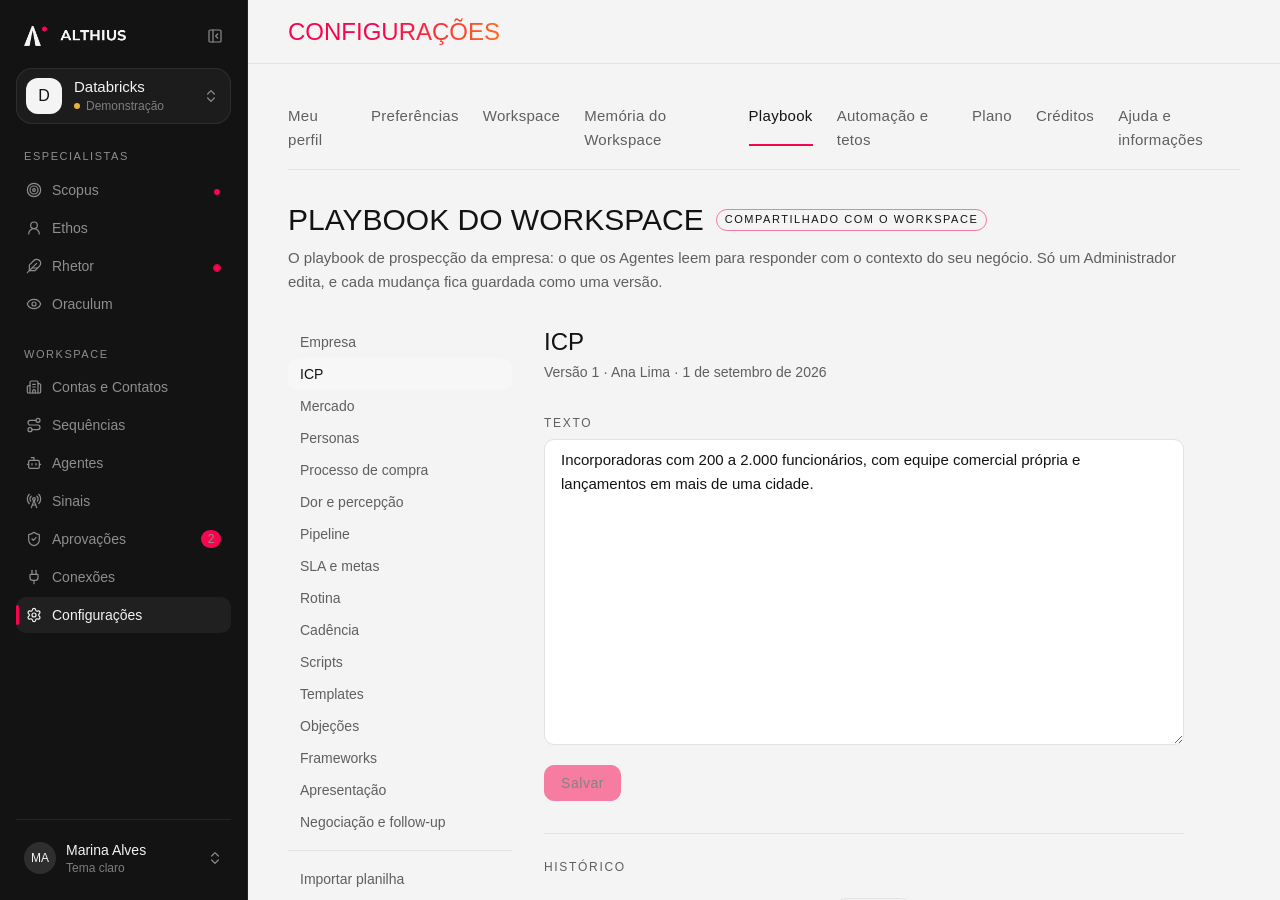
Test: Playbook do Workspace: edição pelo Administrador › edita o texto e grava uma versão nova, que entra no histórico
Expected: the button "Salvar" is disabled, 544,765 -> 621,801
Replace the text in the text box labelled "Texto" with "Incorporadoras de São Paulo.". click: (864, 592)
box: 544,439 -> 1184,745
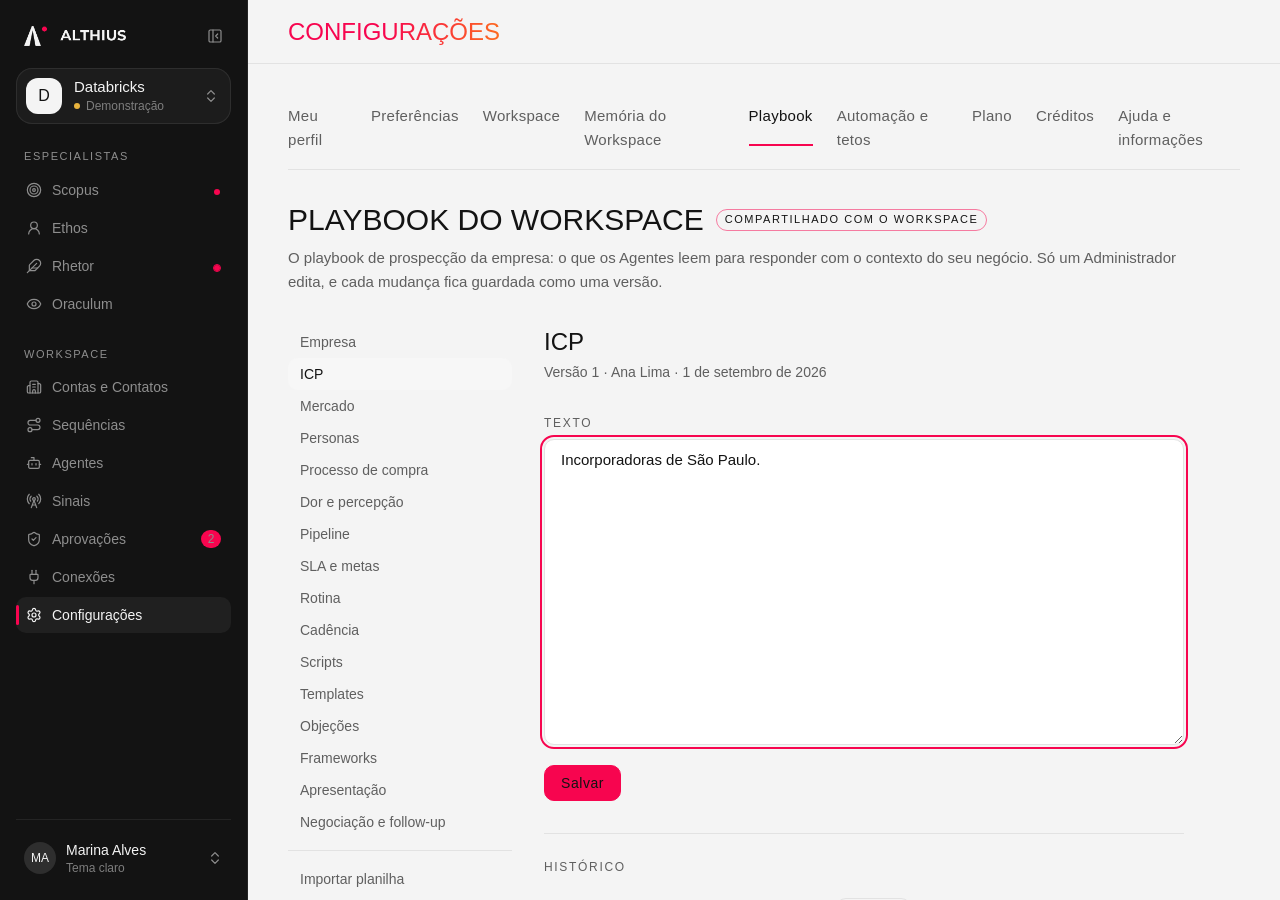
Click the button "Salvar". click: (582, 783)
box: 544,765 -> 621,801
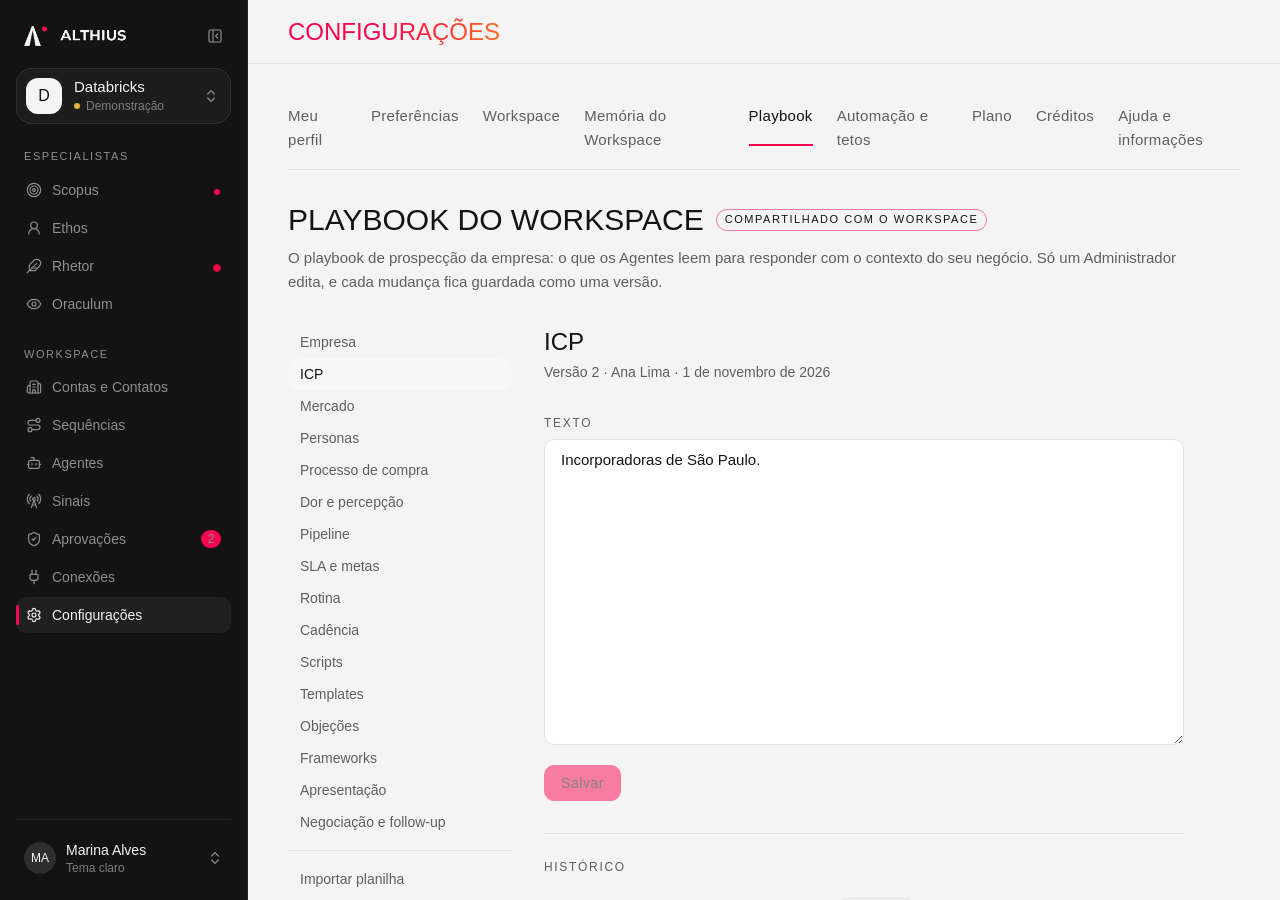
Now the text box labelled "Texto" holds "Incorporadoras de São Paulo.", box 544,439 -> 1184,745
Now the text "Versão 2 · Ana Lima · 1 de novembro de 2026" is shown, box 544,364 -> 830,380
